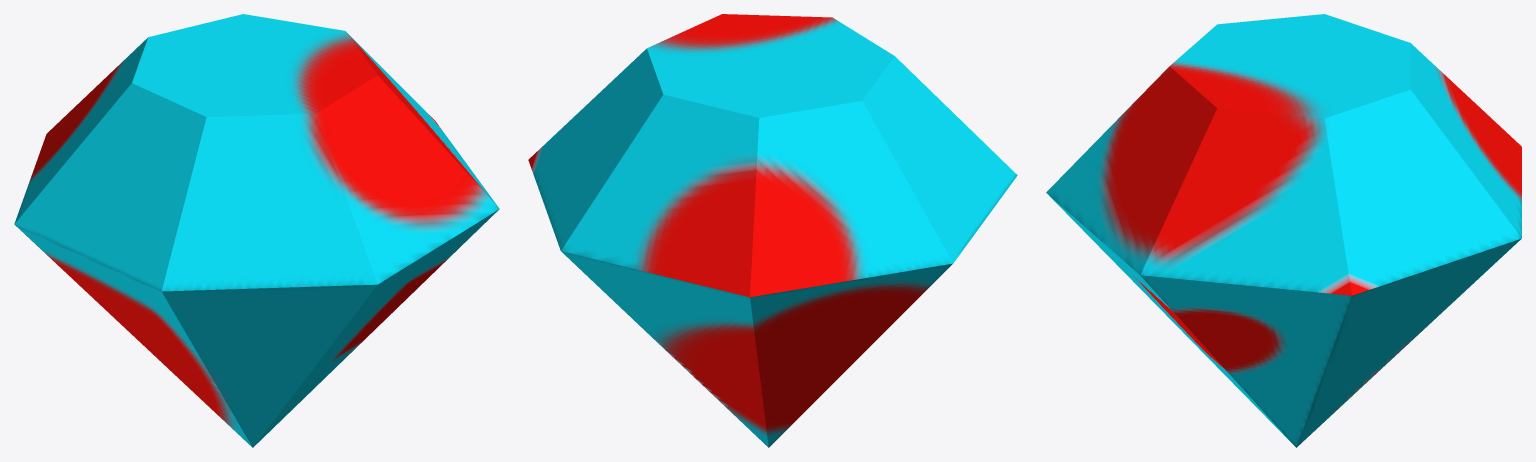
The model's file is diamond.fbx.
3 views of the same model, side by side, from view 1: azimuth 30°, elevation 25°; view 2: azimuth 150°, elevation 25°; view 3: azimuth 270°, elevation 25° (orthographic).
Parts seen in each view (by area): view 1: Cone; view 2: Cone; view 3: Cone.
Part boxes in pixels (left/top/right/bottom): Cone: left=14, top=14, right=499, bottom=447; Cone: left=528, top=14, right=1017, bottom=447; Cone: left=1046, top=14, right=1521, bottom=447.
Bounding box in the file's own units: 205 × 177 × 200.
1 material, 1 textured.
